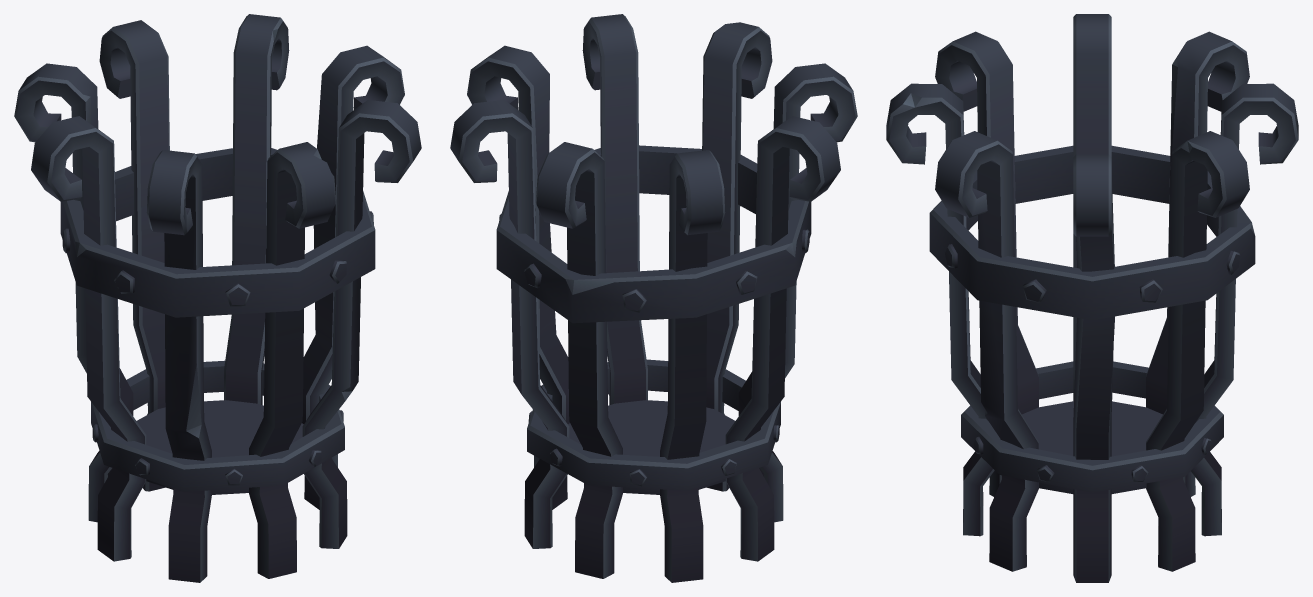
The model's file is FirePlace_1_1_E.glb.
3 renders of one model, left to right at view 1: azimuth 30°, elevation 25°; view 2: azimuth 150°, elevation 25°; view 3: azimuth 270°, elevation 25°, orthographic.
Visible parts, largest first — view 1: FirePlace_1_1_E; view 2: FirePlace_1_1_E; view 3: FirePlace_1_1_E.
Boxes of the visible parts, x1,y1,x2,y2 form: FirePlace_1_1_E: (14,14,421,582); FirePlace_1_1_E: (450,14,857,582); FirePlace_1_1_E: (886,14,1298,582).
Size of the model in its own units: 0.7082 by 0.8289 by 0.7082.
1 material, 1 textured.
